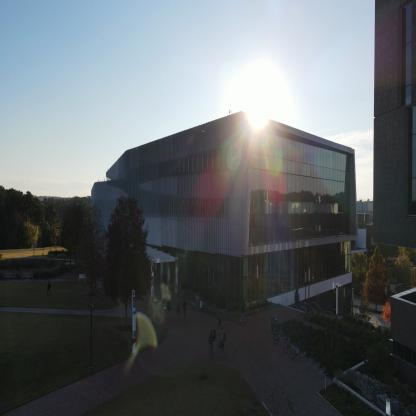Fitts- Woolard: (368, 2, 415, 360)
Hunt Library: (59, 87, 364, 348)
